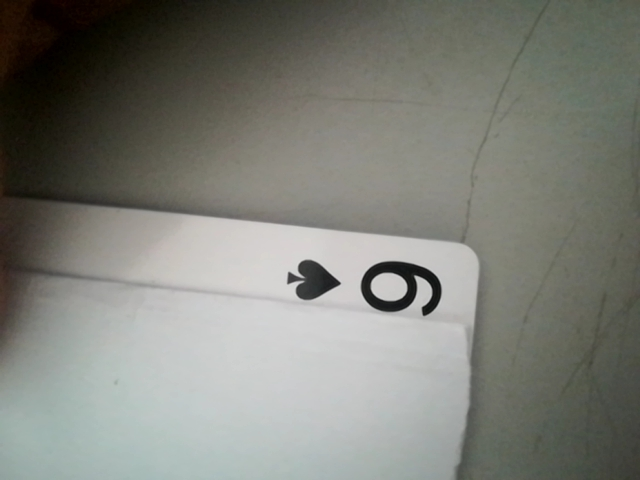ht 6: (268, 245, 460, 321)
